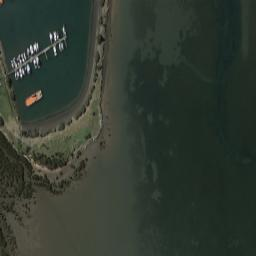boat: (24, 88, 42, 106), (33, 40, 39, 53), (62, 21, 67, 36), (29, 43, 34, 56), (26, 62, 31, 74), (18, 65, 22, 78), (52, 29, 56, 41), (36, 55, 40, 67), (52, 44, 56, 55), (49, 31, 53, 42), (26, 46, 30, 57), (12, 56, 16, 67), (58, 41, 62, 51), (33, 57, 37, 67), (10, 58, 14, 67), (20, 53, 24, 61), (61, 40, 64, 50), (18, 53, 21, 63), (23, 51, 26, 59), (14, 71, 17, 79), (16, 57, 19, 64), (24, 65, 27, 72), (56, 31, 58, 40), (22, 65, 24, 74), (17, 69, 19, 78), (29, 59, 32, 62)
